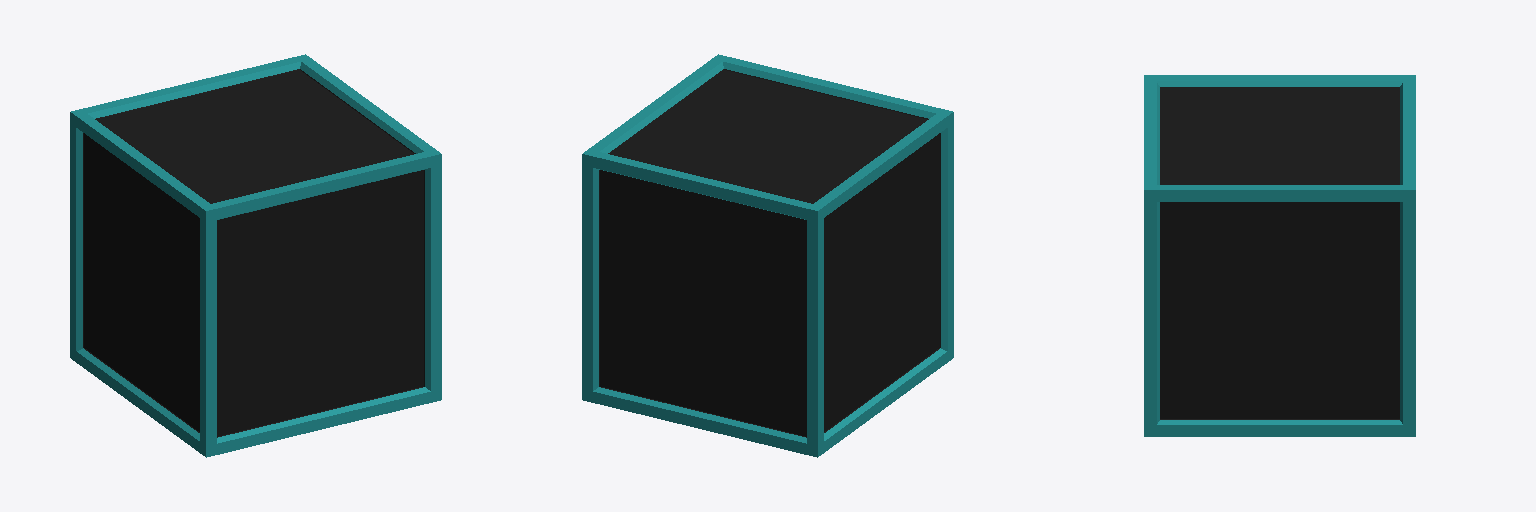
3 renders of one model, left to right at view 1: azimuth 30°, elevation 25°; view 2: azimuth 150°, elevation 25°; view 3: azimuth 270°, elevation 25°, orthographic.
Visible parts, largest first — view 1: Cube; view 2: Cube; view 3: Cube.
Boxes of the visible parts, x1=… form: Cube: x1=70, y1=54, x2=441, y2=457; Cube: x1=582, y1=54, x2=953, y2=457; Cube: x1=1144, y1=75, x2=1415, y2=436.
Bounding box in the file's own units: 2 × 2 × 2.
Materials: 1 (1 with a texture image).